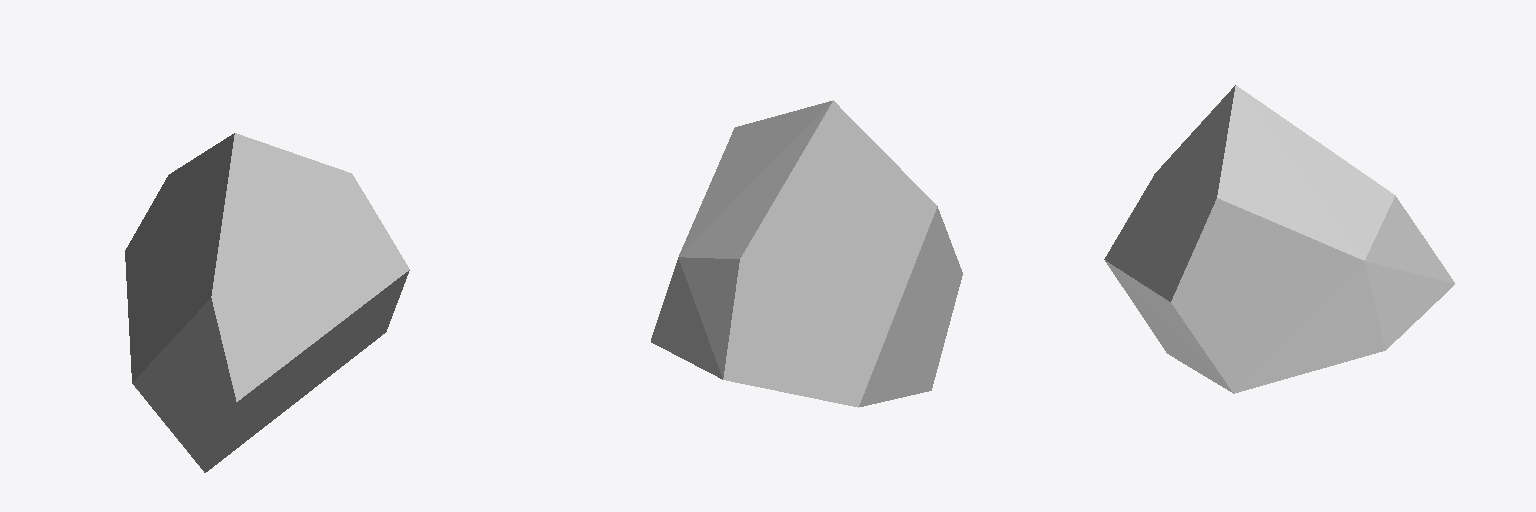
The model's file is VFX_explosed_block.obj.
3 views of the same model, side by side, from view 1: azimuth 30°, elevation 25°; view 2: azimuth 150°, elevation 25°; view 3: azimuth 270°, elevation 25° (orthographic).
Visible parts, largest first — view 1: Explosed_rock_01; view 2: Explosed_rock_01; view 3: Explosed_rock_01.
Boxes of the visible parts, <box> form: Explosed_rock_01: <box>125,133,409,472</box>; Explosed_rock_01: <box>651,100,962,407</box>; Explosed_rock_01: <box>1104,85,1454,393</box>.
Bounding box in the file's own units: 0.2731 × 0.3648 × 0.3876.